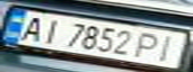2: (112, 27, 139, 57)
5: (97, 25, 118, 55)
7: (60, 19, 87, 48)
8: (78, 22, 103, 52)
A: (12, 13, 51, 42)
I: (33, 16, 66, 46), (151, 33, 184, 63)
P: (133, 30, 166, 61)
